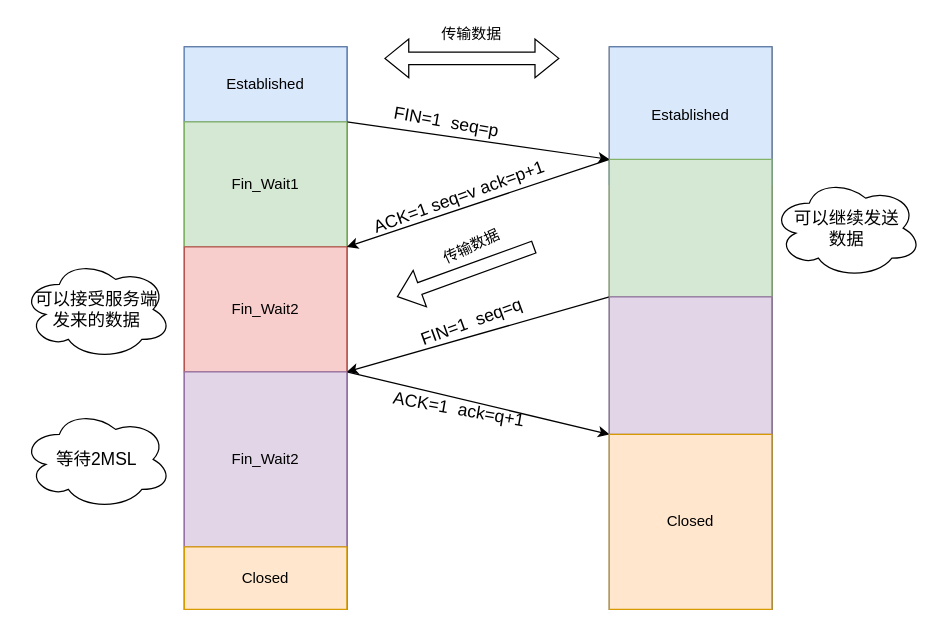
This 944x631 diagram has some shape labels left out. Each missing label, with the centre of its shape:
"Close_Wait" goes at (690,227).
"Last_ACK" goes at (690,365).
